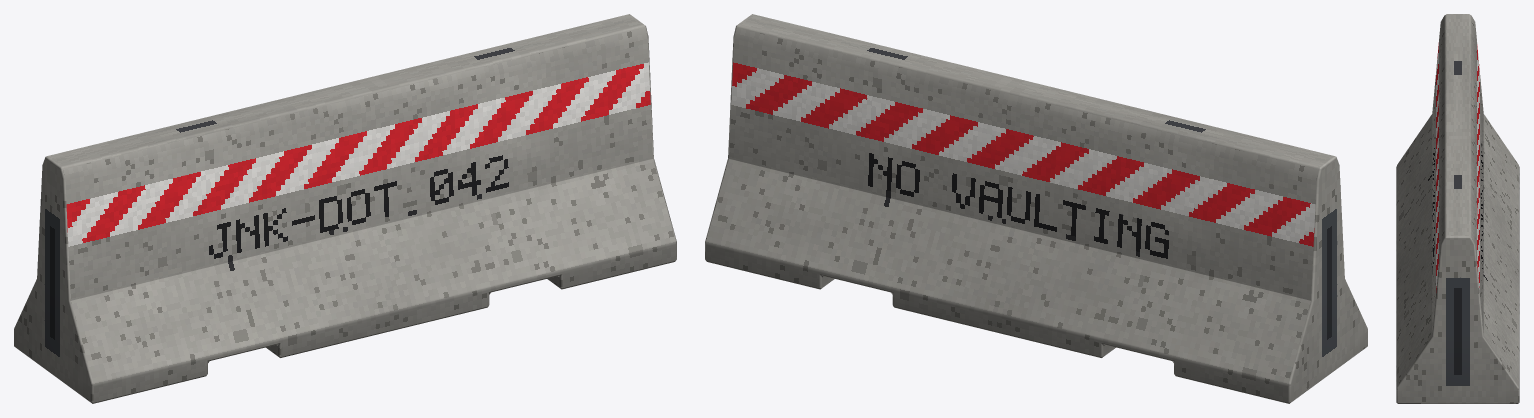
The model's file is p_barrier.glb.
3 views of the same model, side by side, from view 1: azimuth 30°, elevation 25°; view 2: azimuth 150°, elevation 25°; view 3: azimuth 270°, elevation 25° (orthographic). The views are drawn at different scales.
Parts seen in each view (by area): view 1: barrier_lod0; view 2: barrier_lod0; view 3: barrier_lod0.
Part boxes in pixels (bbox=[...]): barrier_lod0: bbox=[14, 14, 676, 403]; barrier_lod0: bbox=[705, 14, 1367, 403]; barrier_lod0: bbox=[1396, 14, 1519, 403].
Size of what is drawn, in the model's own units: 3 by 1.05 by 0.7.
1 material, 1 textured.
